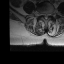CCS_normal: (45, 11, 47, 21)
LFS_stenosis: (49, 11, 51, 17)
LLS_normal: (47, 11, 49, 19)
RFS_stenosis: (41, 11, 43, 17)
RLS_stenosis: (43, 11, 44, 19)
